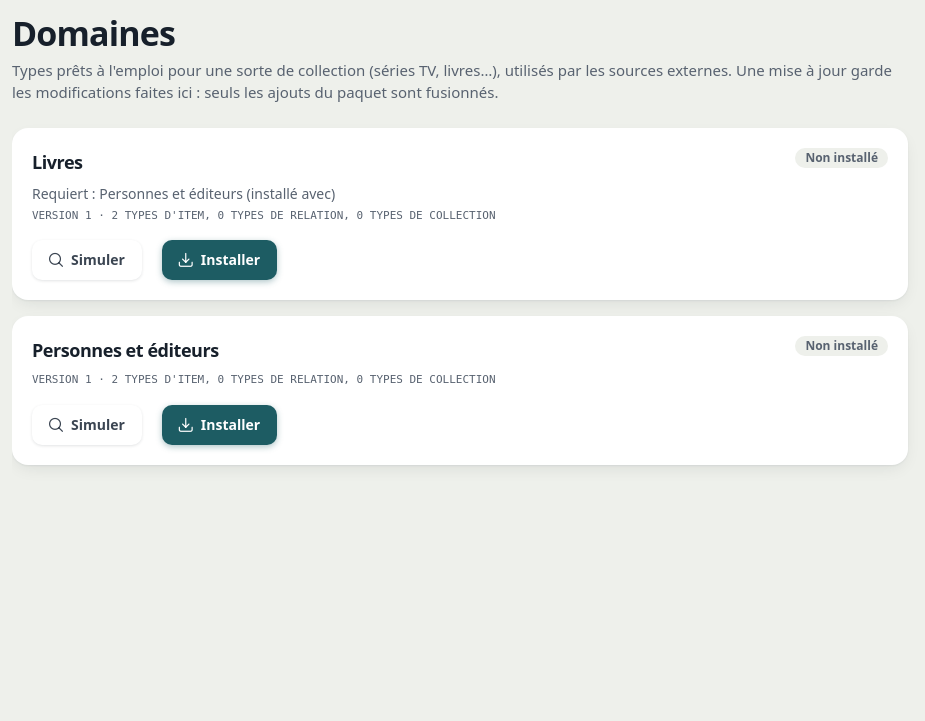
Test case: DomainsView › affiche les paquets requis et leur rapport dans la simulation
Expected: the text with test id "requires" reads "Requiert : Personnes et éditeurs (installé avec)", left=32, top=184, right=335, bottom=202
Click the 1st button "Simuler" at {"x": 87, "y": 260}, box left=32, top=240, right=142, bottom=280
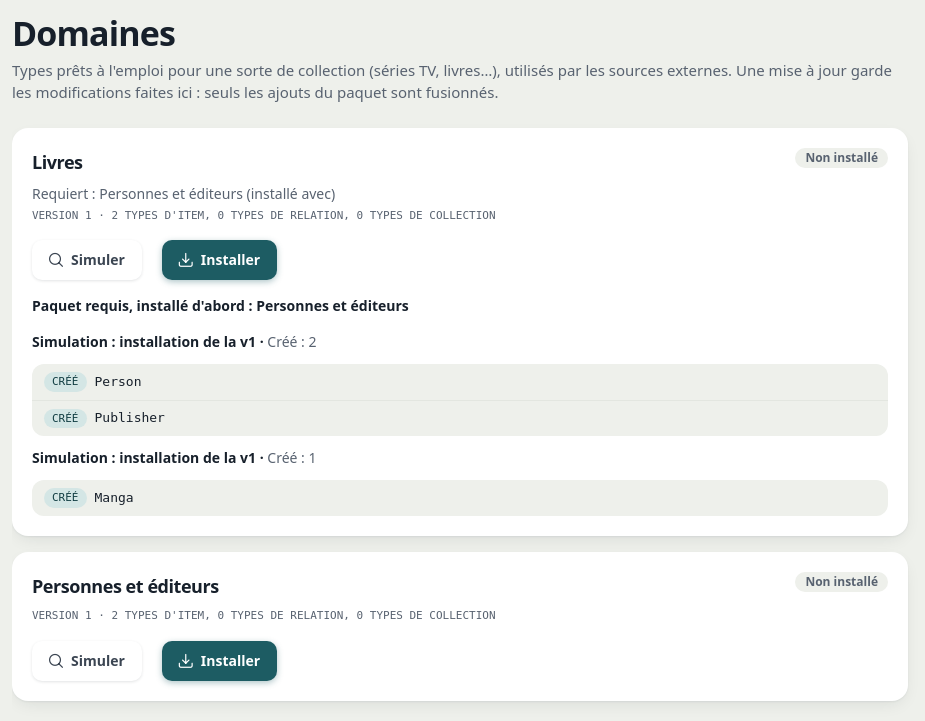
Expected: the element with test id "required-report" shows "Paquet requis, installé d'abord : Personnes et éditeurs", left=32, top=296, right=409, bottom=315
Expected: the element with test id "required-report" shows "Publisher", left=94, top=410, right=165, bottom=425
Expected: the text "Manga" is shown, left=94, top=489, right=134, bottom=508
